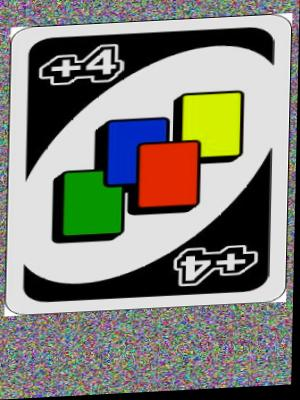wild-4: (7, 19, 291, 315)
